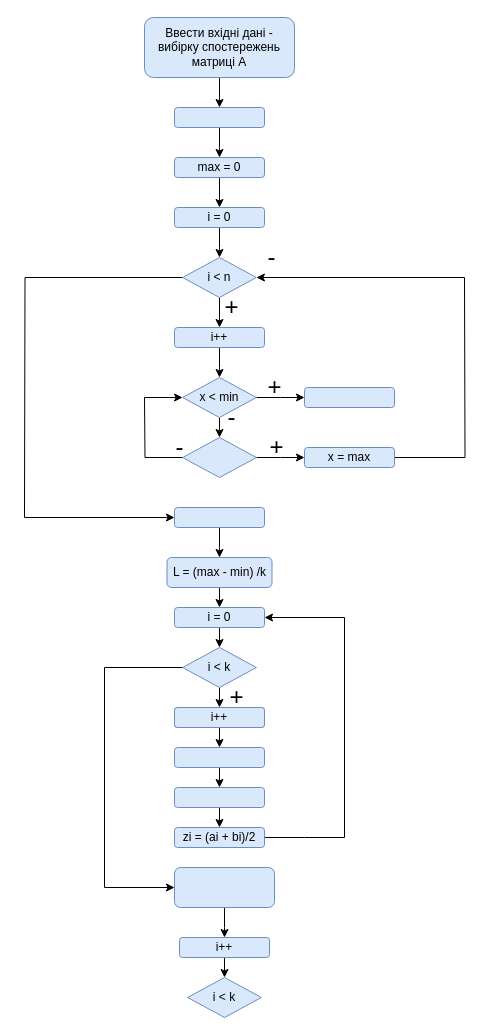
The diagram is 490 pixels wide and 1035 high, and some of its shapes have lost their labels. The shapes that lost their labels are listed below. From the top down, each one's box as (x1, y1, x2, y2) in pixels, then its label:
(174, 106, 264, 128): min = 0
(304, 386, 394, 408): x = min
(182, 436, 256, 478): x > max
(174, 506, 264, 528): k = 7
(174, 746, 264, 768): ai = min + i * L
(174, 786, 264, 808): bi = ai + L
(174, 866, 274, 908): лічильник поточного інтервалу i = 0
